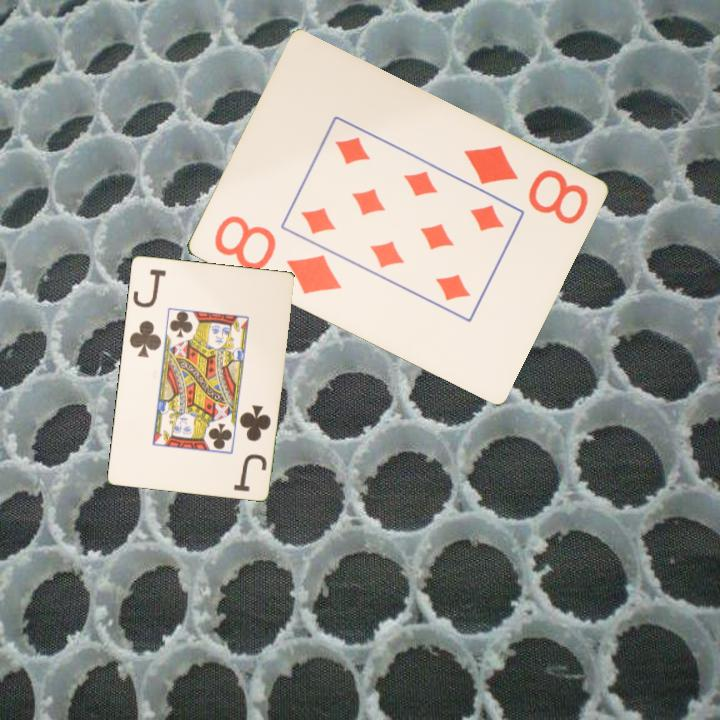8d: (210, 212, 344, 298), (459, 141, 591, 228)
Jc: (230, 401, 274, 494), (126, 265, 169, 360)
